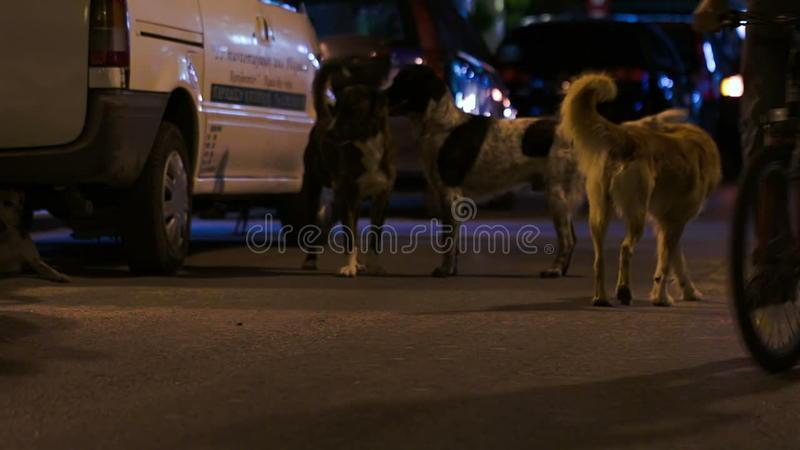normal_dogs: (544, 76, 738, 317), (392, 53, 582, 276), (302, 46, 399, 285), (0, 175, 81, 292)
